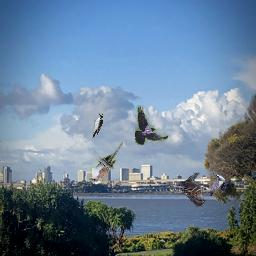Crow: (135, 105, 168, 145)
Cuckoo: (89, 142, 123, 182)
Sparrow: (166, 172, 206, 207)
Swallow: (207, 170, 229, 196)
Woodpecker: (92, 113, 103, 138)
